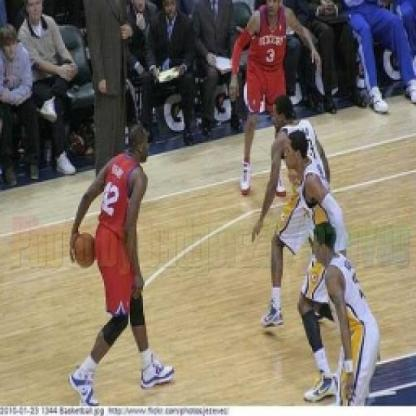basketball: (66, 230, 103, 269)
